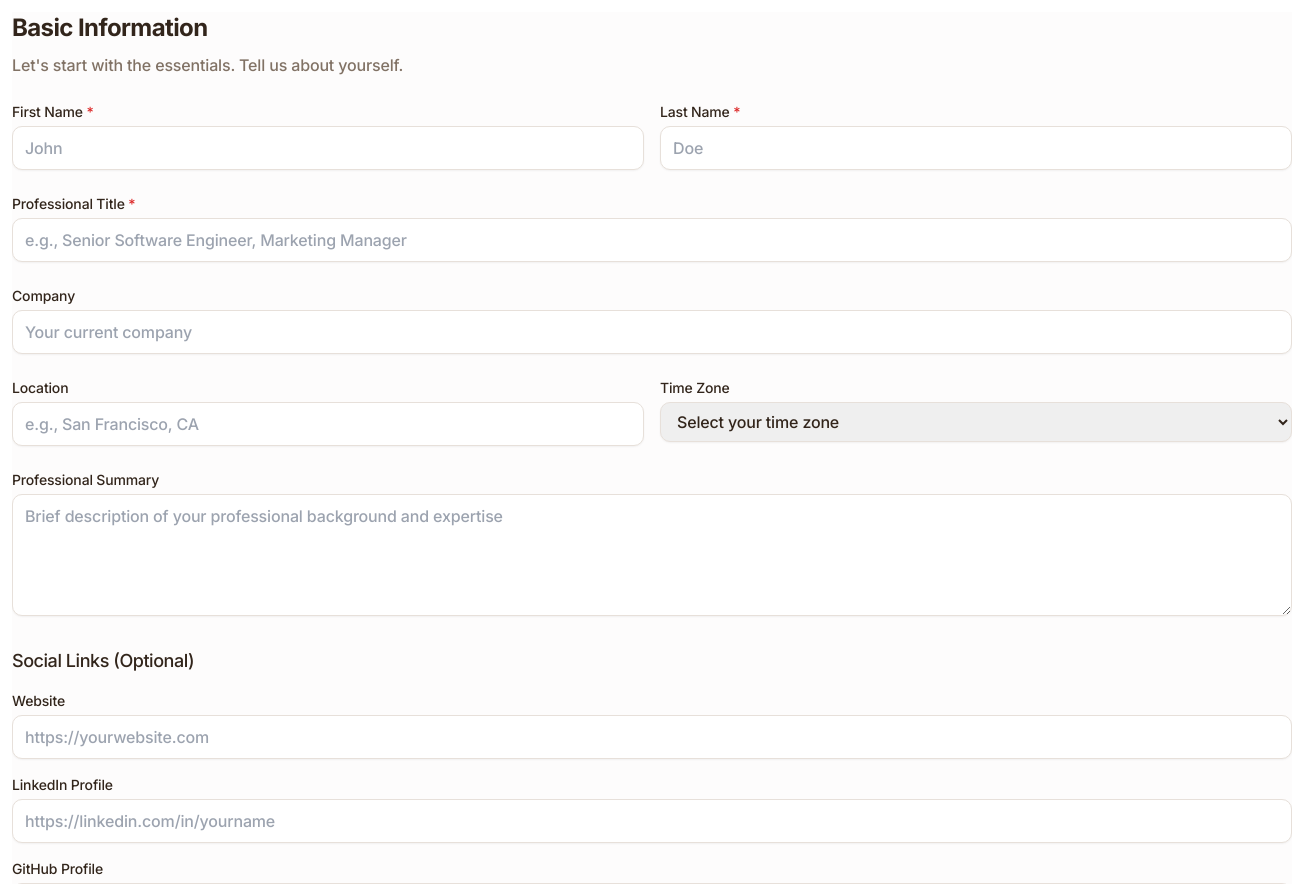
Scenario: Step1BasicInfo › validates URL fields correctly
# Enter invalid URL
Type "not-a-url" into the field labelled "Website" at (652, 737), box [12,715,1292,759]
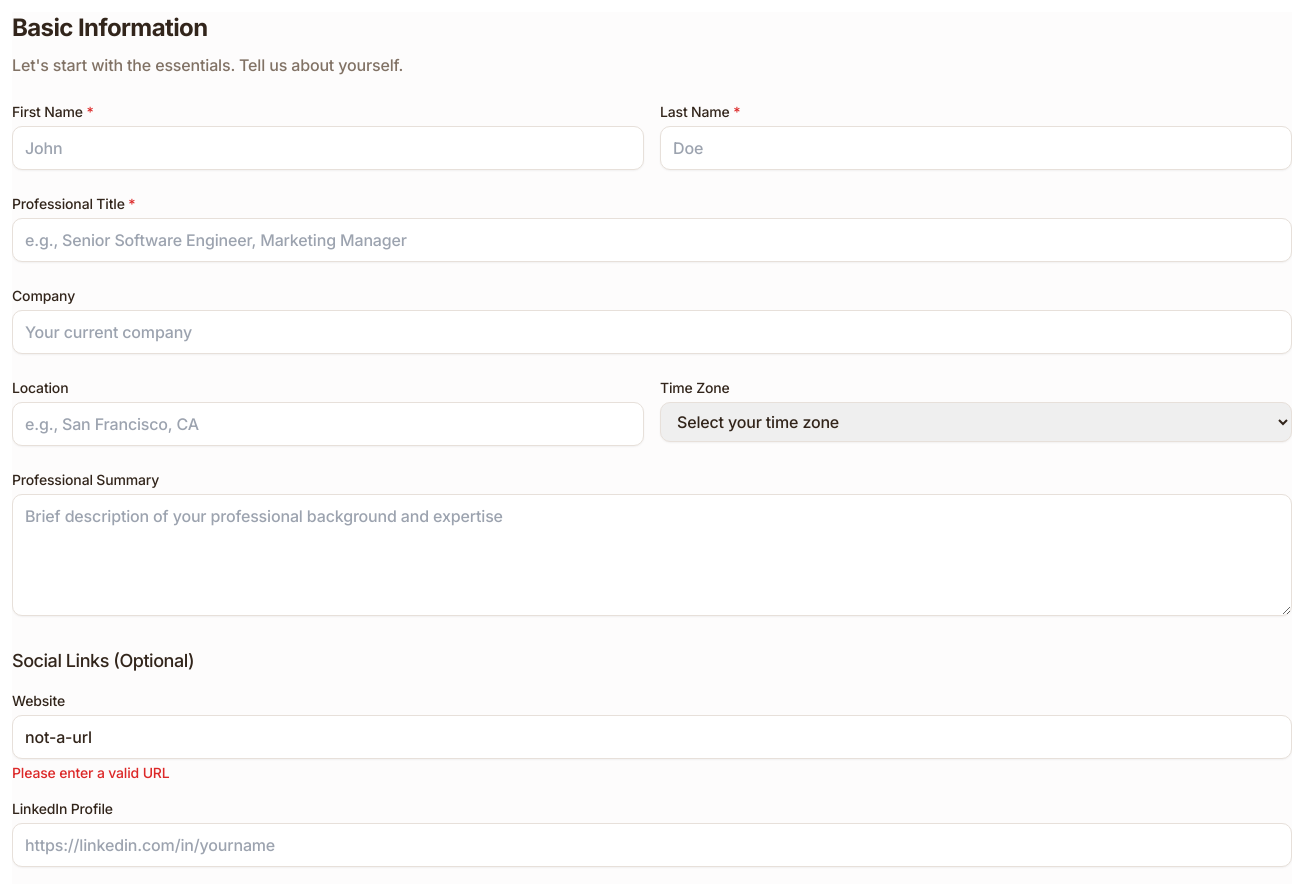
Expected: the text "Please enter a valid URL" is shown, [12,764,170,781]
# Enter valid URL
Replace the text in the field labelled "Website" with "https://example.com" at (652, 737), box [12,715,1292,759]
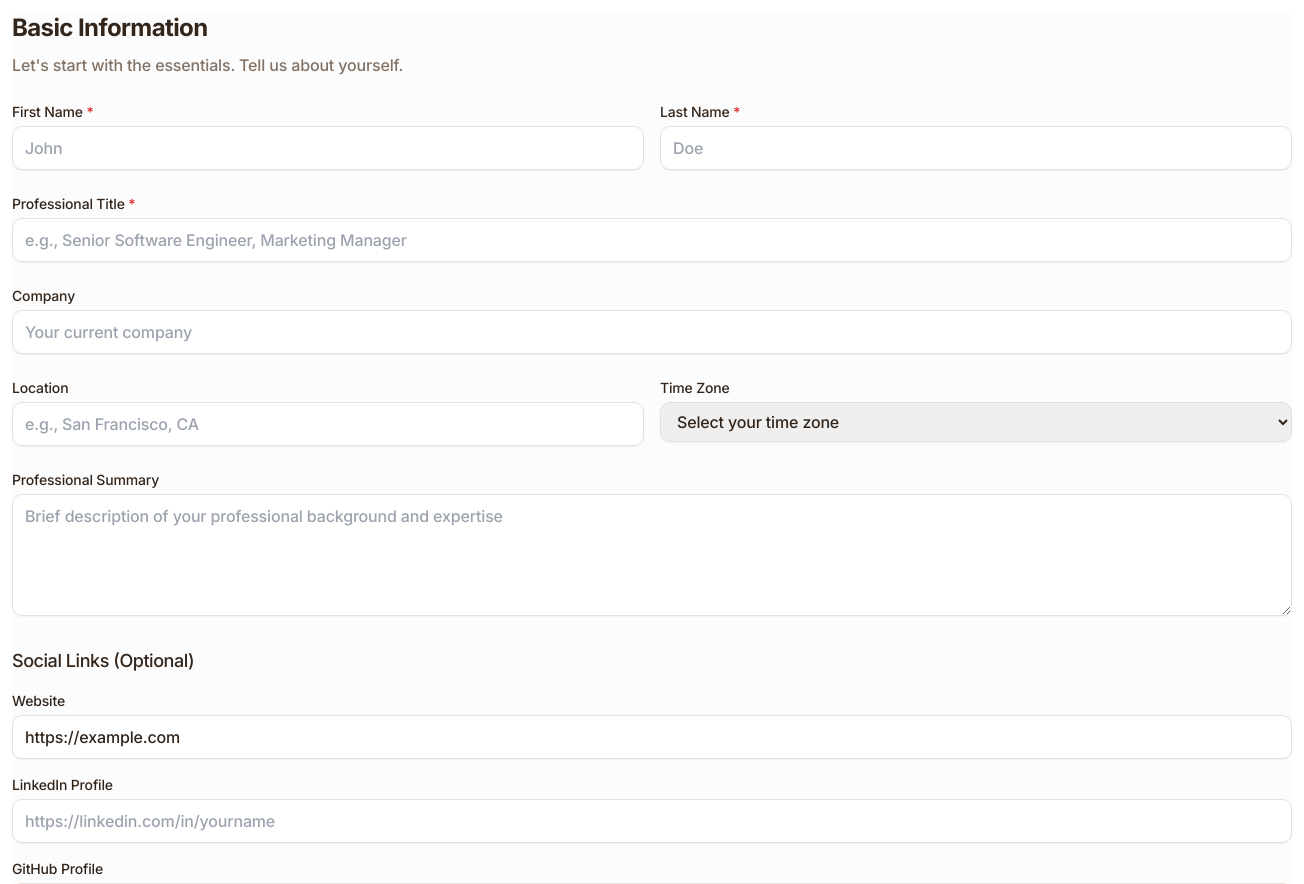
Expected: the text "Please enter a valid URL" is gone
